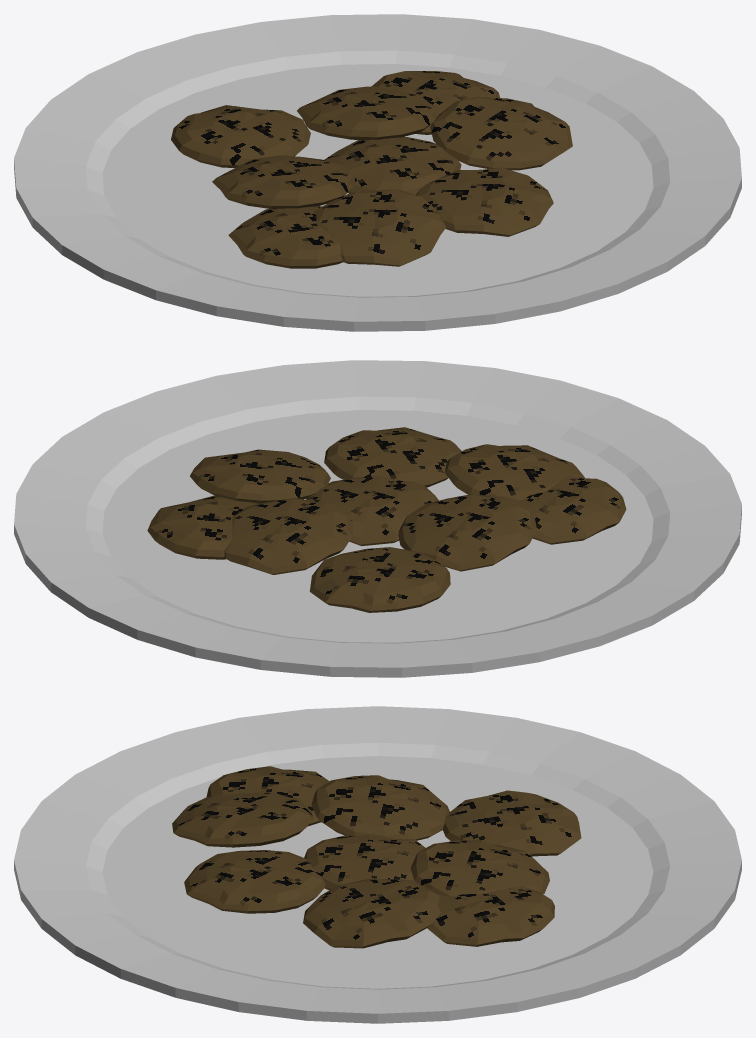
File: cookiePlate.fbx
The picture shows the model from 3 angles, top to bottom: view 1: azimuth 30°, elevation 25°; view 2: azimuth 150°, elevation 25°; view 3: azimuth 270°, elevation 25°; orthographic projection.
Parts seen in each view (by area): view 1: CookiePlate, Cookie.003, Cookie.005, Cookie.004, Cookie, Cookie.007, Cookie.001, Cookie.008, Cookie.006, Cookie.002; view 2: CookiePlate, Cookie.007, Cookie.001, Cookie, Cookie.004, Cookie.003, Cookie.005, Cookie.008, Cookie.006, Cookie.002; view 3: CookiePlate, Cookie.003, Cookie.004, Cookie.007, Cookie, Cookie.005, Cookie.001, Cookie.002, Cookie.008, Cookie.006.
Part boxes in pixels (x1,y1,x2,y2): CookiePlate: [14, 14, 741, 331]; Cookie.003: [430, 97, 572, 170]; Cookie.005: [314, 189, 445, 266]; Cookie.004: [416, 167, 553, 236]; Cookie: [171, 105, 310, 167]; Cookie.007: [212, 155, 354, 208]; Cookie.001: [297, 86, 437, 140]; Cookie.008: [324, 136, 461, 194]; Cookie.006: [228, 206, 342, 268]; Cookie.002: [372, 71, 499, 134]; CookiePlate: [14, 360, 741, 677]; Cookie.007: [398, 494, 536, 571]; Cookie.001: [224, 498, 353, 574]; Cookie: [309, 547, 450, 612]; Cookie.004: [324, 427, 461, 487]; Cookie.003: [190, 449, 330, 503]; Cookie.005: [444, 444, 584, 500]; Cookie.008: [306, 476, 438, 546]; Cookie.006: [518, 476, 626, 544]; Cookie.002: [147, 495, 259, 559]; CookiePlate: [14, 706, 741, 1023]; Cookie.003: [303, 879, 442, 948]; Cookie.004: [184, 850, 325, 913]; Cookie.007: [311, 775, 449, 840]; Cookie: [442, 790, 581, 856]; Cookie.005: [172, 792, 313, 847]; Cookie.001: [410, 840, 549, 896]; Cookie.002: [427, 886, 554, 946]; Cookie.008: [304, 835, 425, 890]; Cookie.006: [206, 766, 329, 826].
Bounding box in the file's own units: 49.69 × 3.76 × 49.69.
